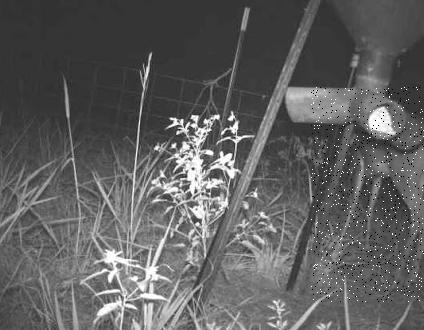Deer: (311, 87, 424, 302)
